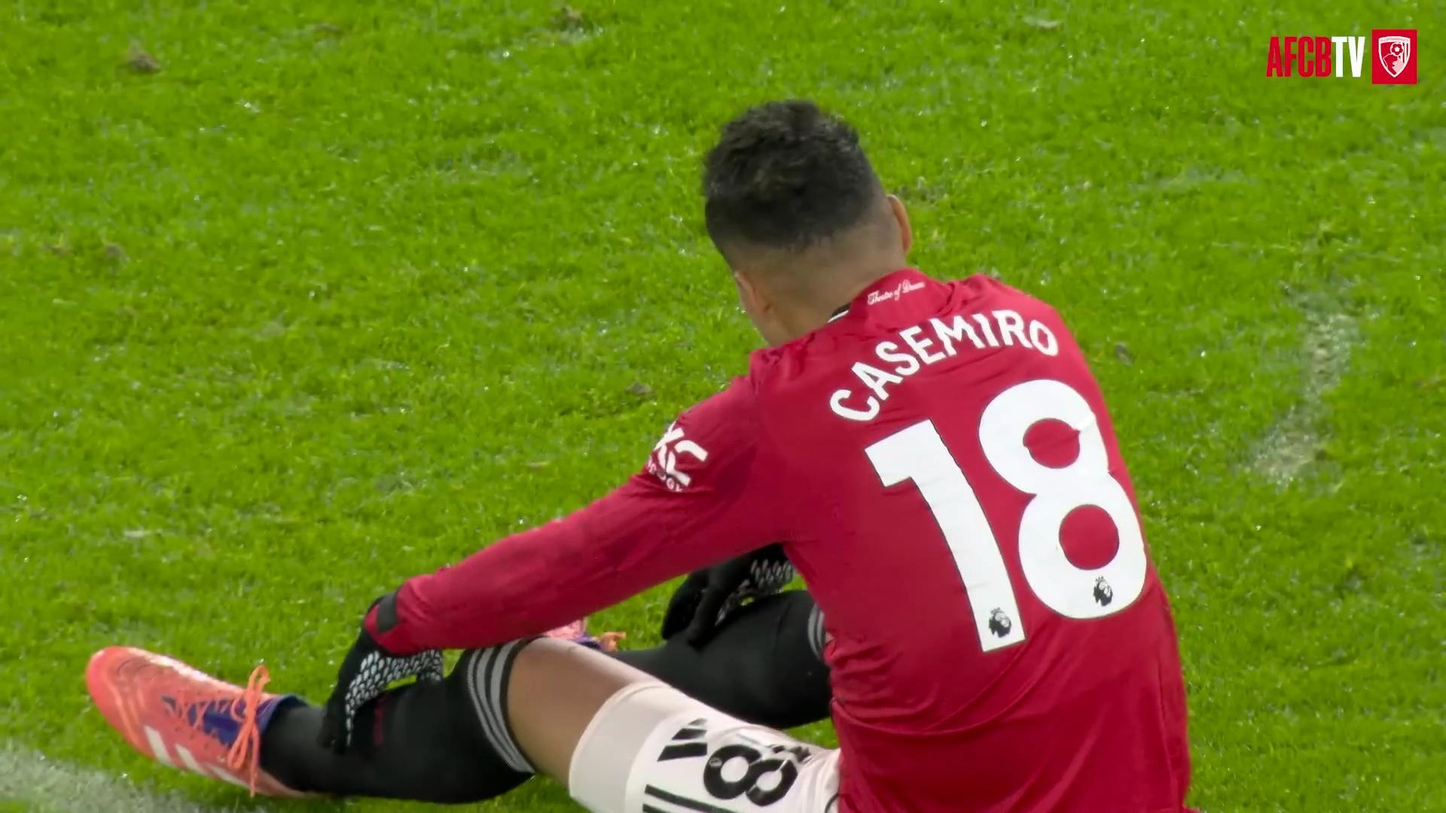player: (90, 101, 1188, 812)
